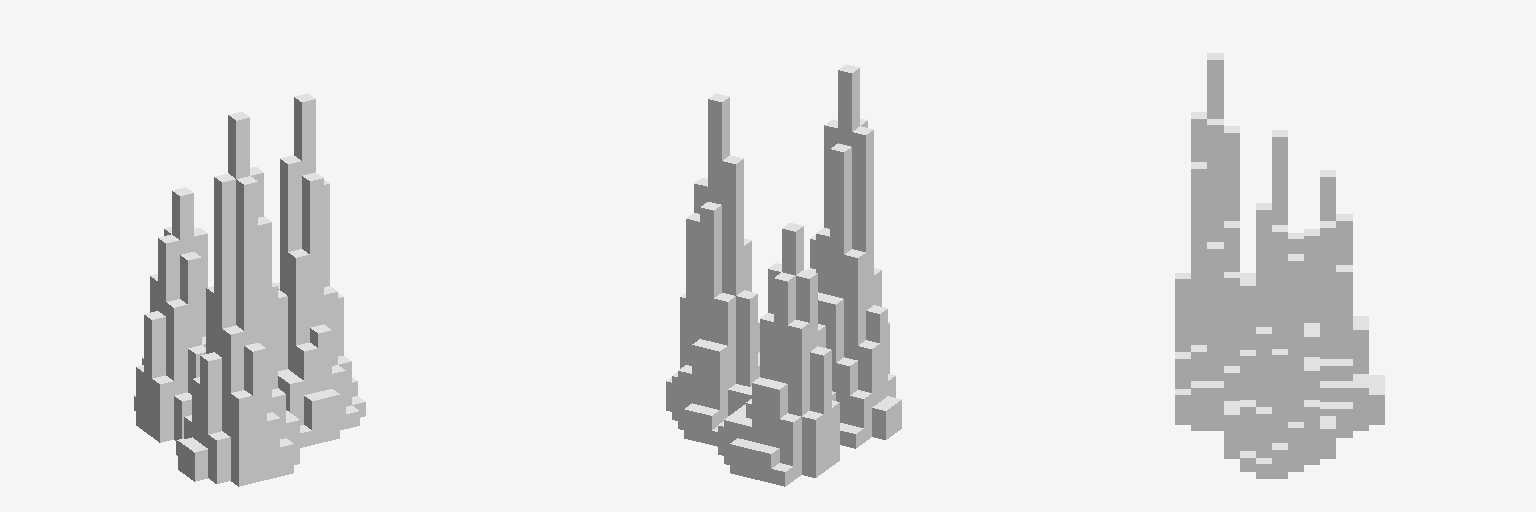
Rendered from cave-1.obj.
3 renders of one model, left to right at view 1: azimuth 30°, elevation 25°; view 2: azimuth 150°, elevation 25°; view 3: azimuth 270°, elevation 25°, orthographic.
Visible parts, largest first — view 1: object 1; view 2: object 1; view 3: object 1.
Part boxes in pixels (x1,y1,x2,y2): object 1: (134,93,365,486); object 1: (666,64,901,486); object 1: (1175,53,1384,478).
Bounding box in the file's own units: 1.4 × 2.4 × 1.3.